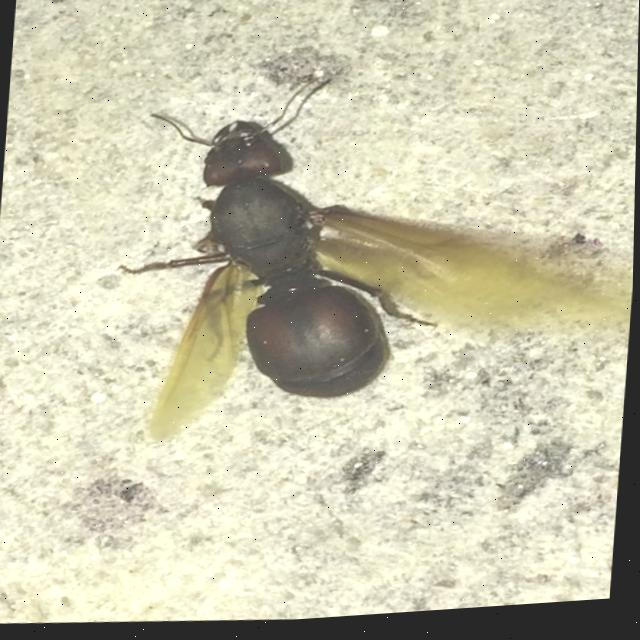Alive-Female-Alate: (103, 53, 638, 471)
